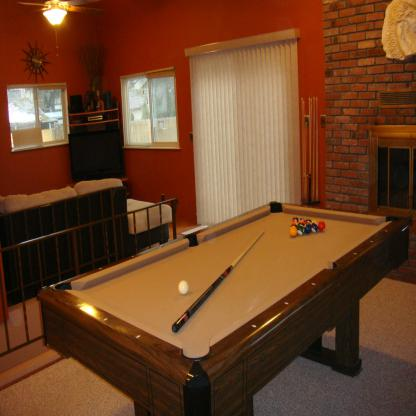Ball: (291, 214, 327, 237), (178, 280, 188, 295)
